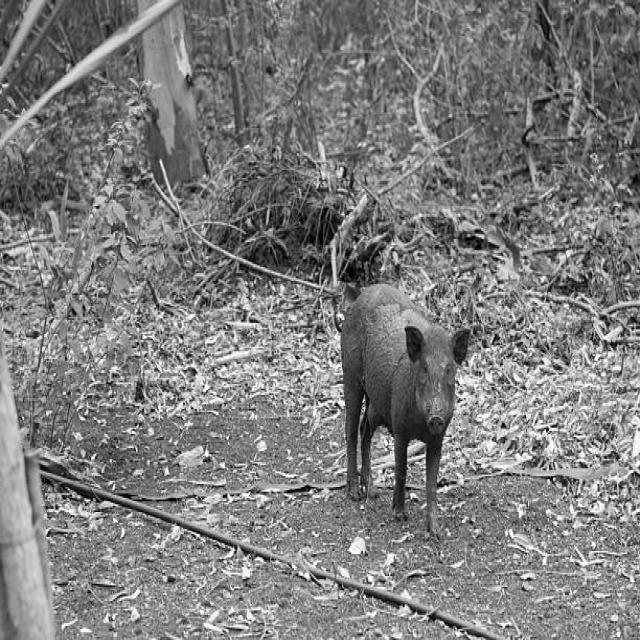boar: (340, 283, 467, 535)
